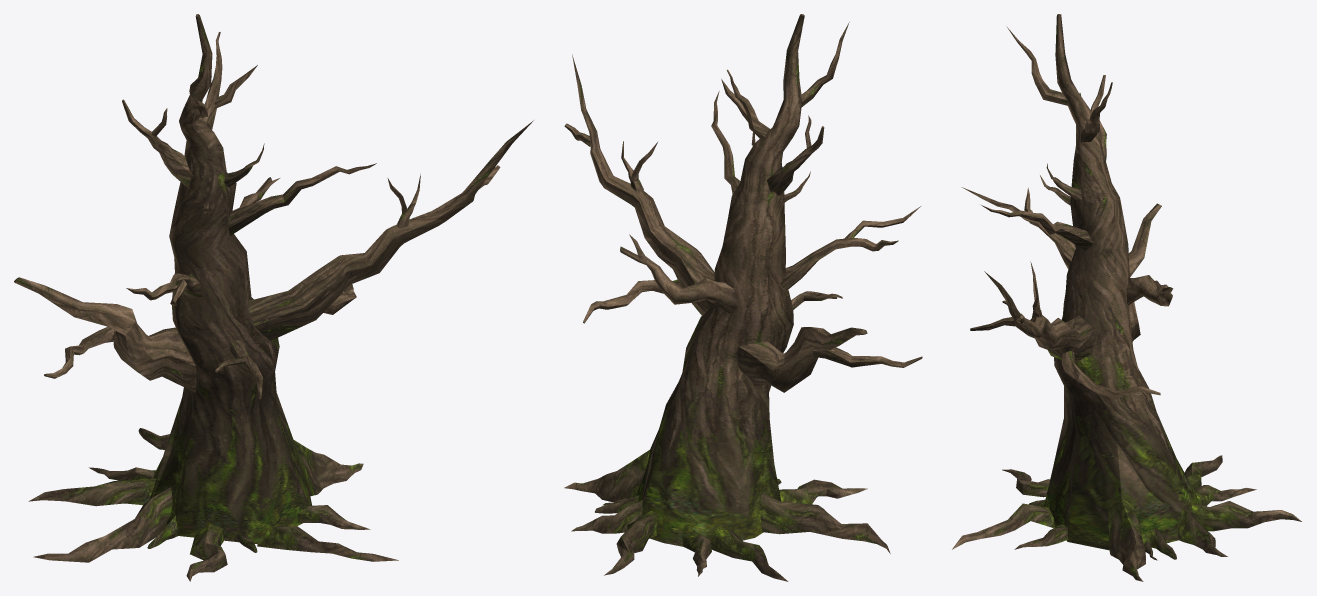
File: ss_shu_3.FBX
3 renders of one model, left to right at view 1: azimuth 30°, elevation 25°; view 2: azimuth 150°, elevation 25°; view 3: azimuth 270°, elevation 25°, orthographic. The views are drawn at different scales.
Visible parts, largest first — view 1: ss_shu_3; view 2: ss_shu_3; view 3: ss_shu_3.
Part boxes in pixels (x1=…): ss_shu_3: x1=14, y1=14, x2=533, y2=581; ss_shu_3: x1=564, y1=14, x2=922, y2=581; ss_shu_3: x1=952, y1=14, x2=1301, y2=581.
Bounding box in the file's own units: 575 × 676 × 451.
